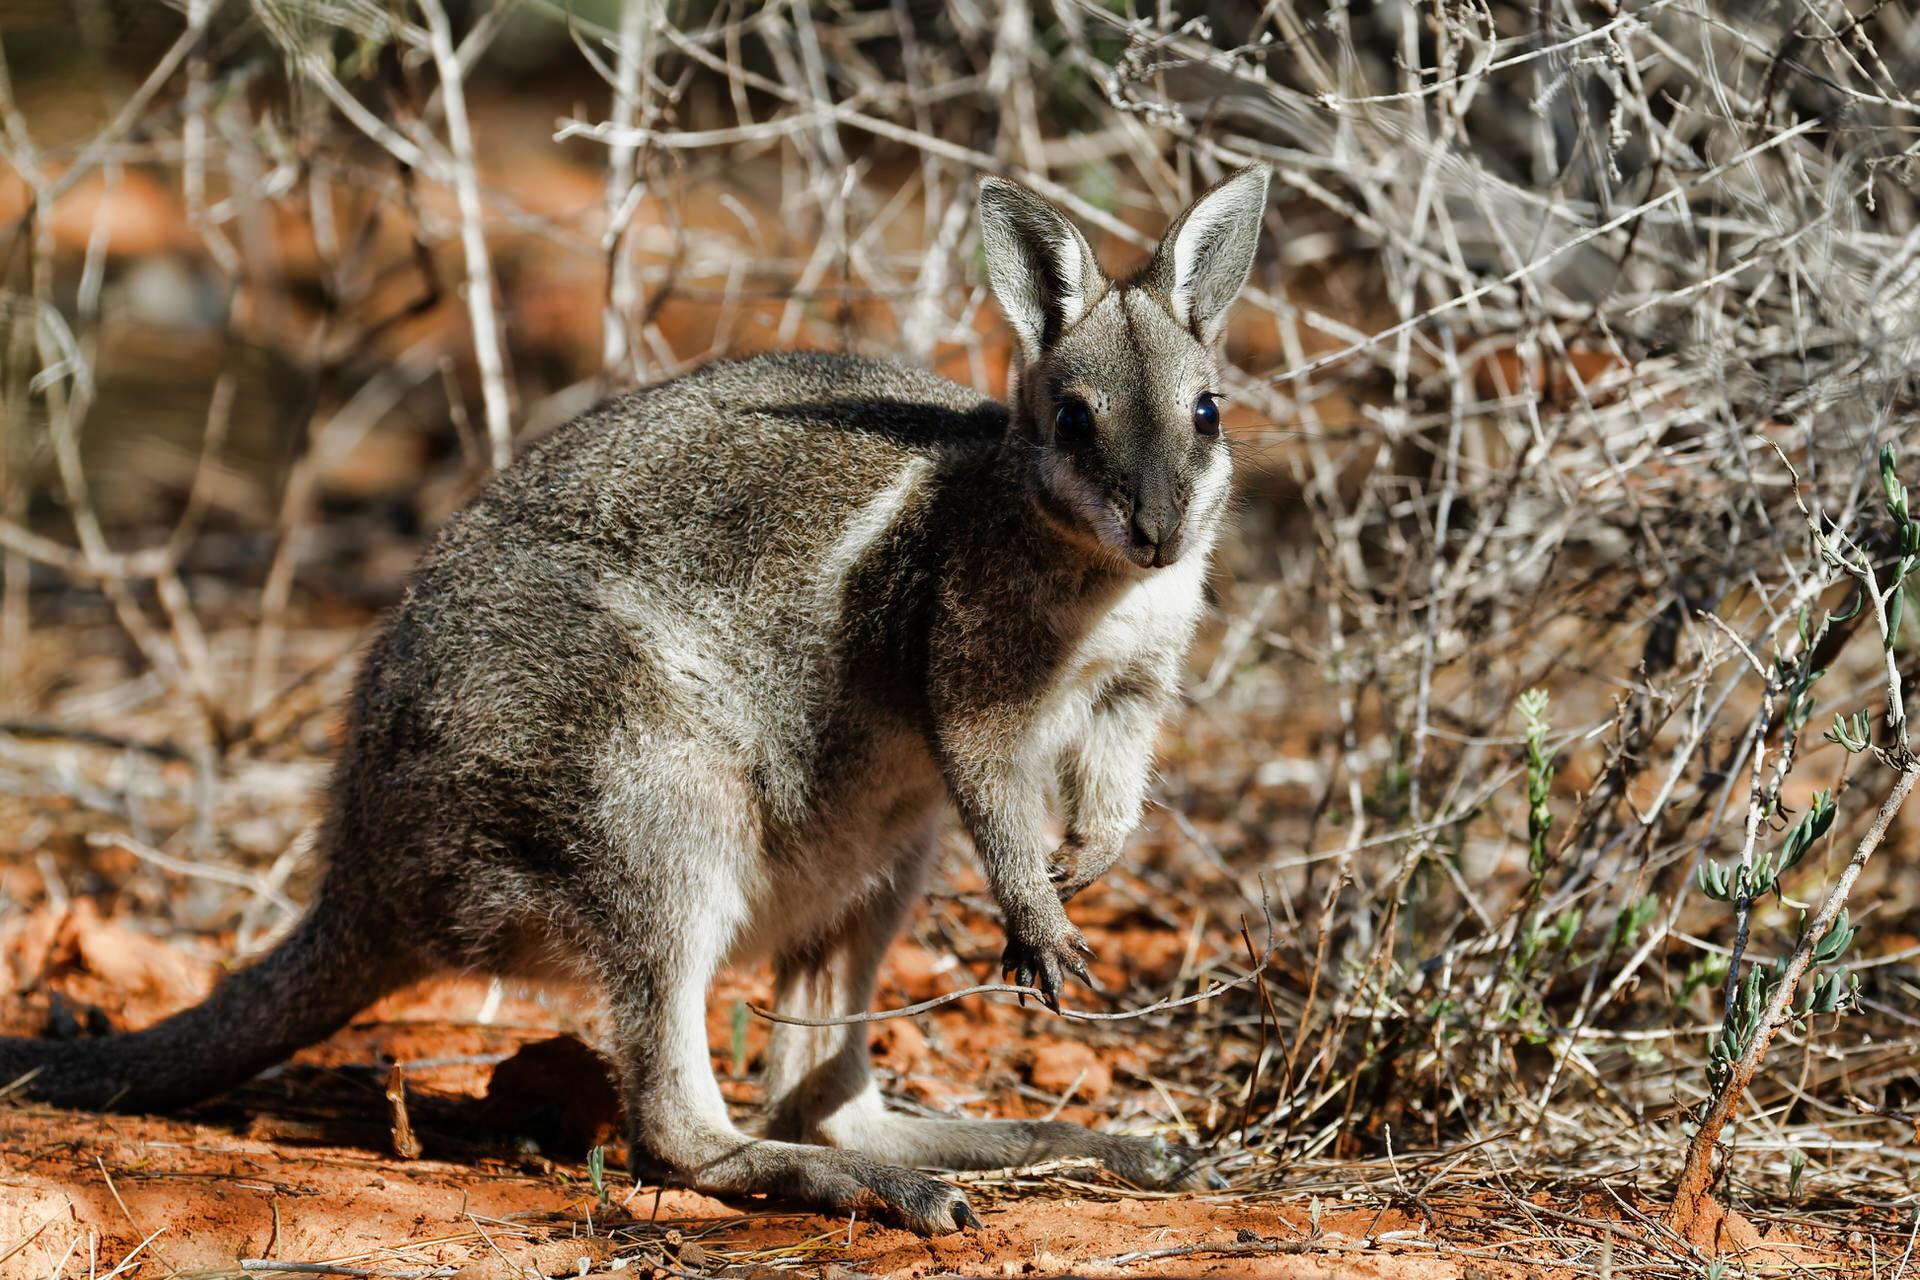Bridled-nail-tail wallaby: (0, 163, 1281, 1231)
